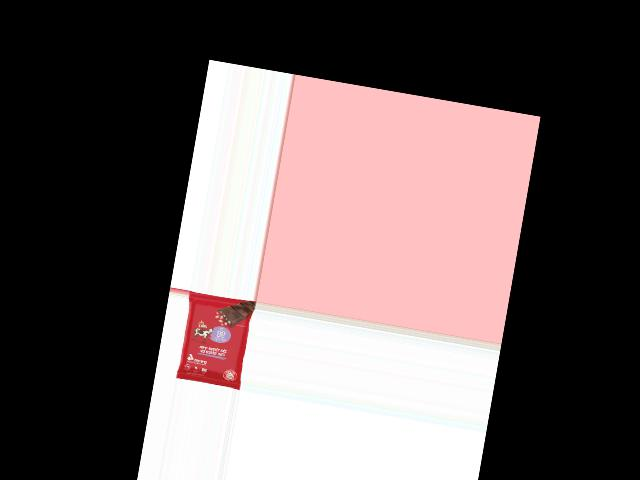chocolate: (174, 291, 253, 390)
